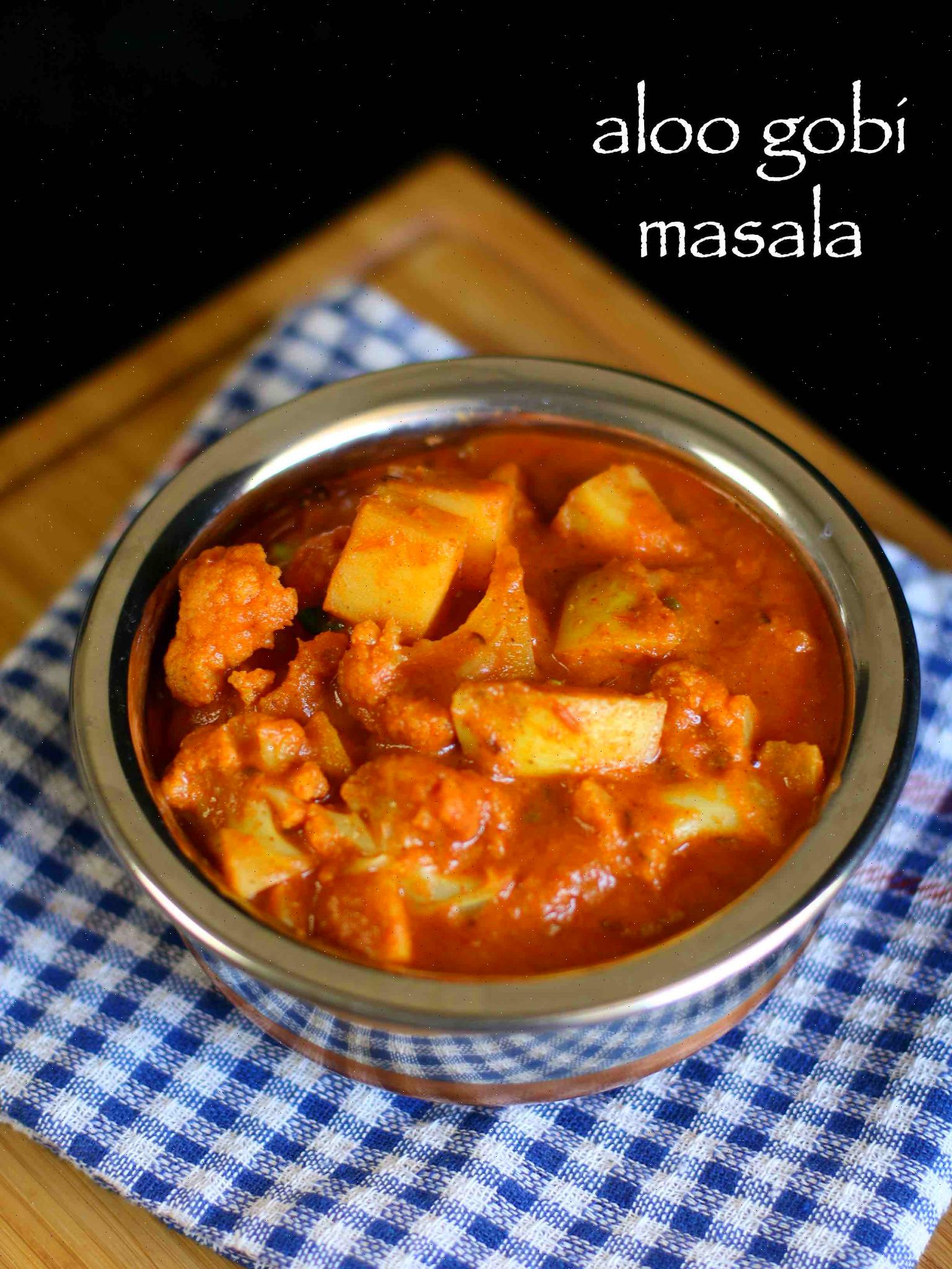aloo gobhi: (165, 433, 940, 1004)
